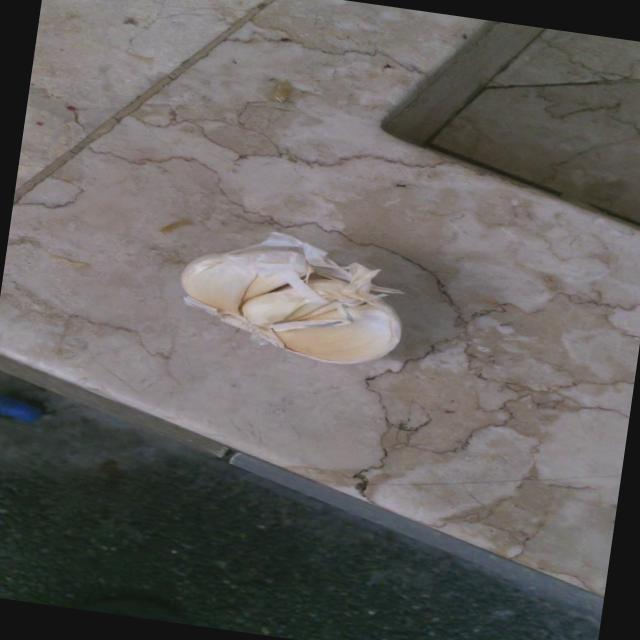garlic: (162, 216, 420, 376)
